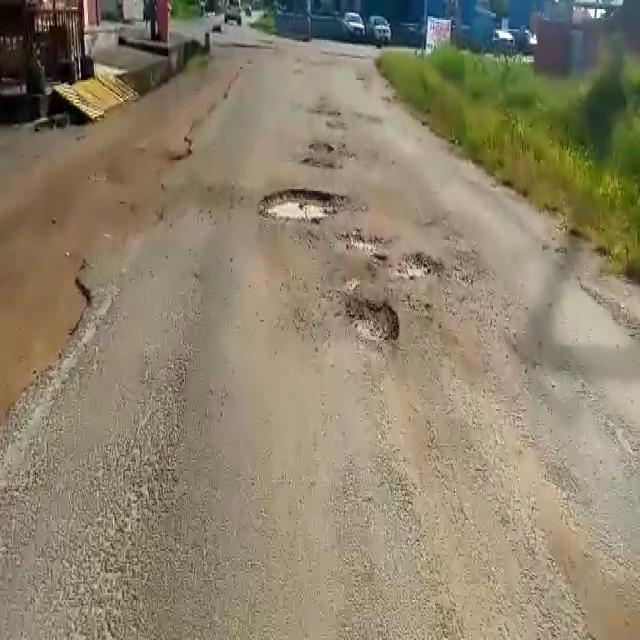Pothole: (258, 186, 350, 225), (345, 294, 400, 344), (395, 249, 444, 281), (336, 230, 386, 257)
